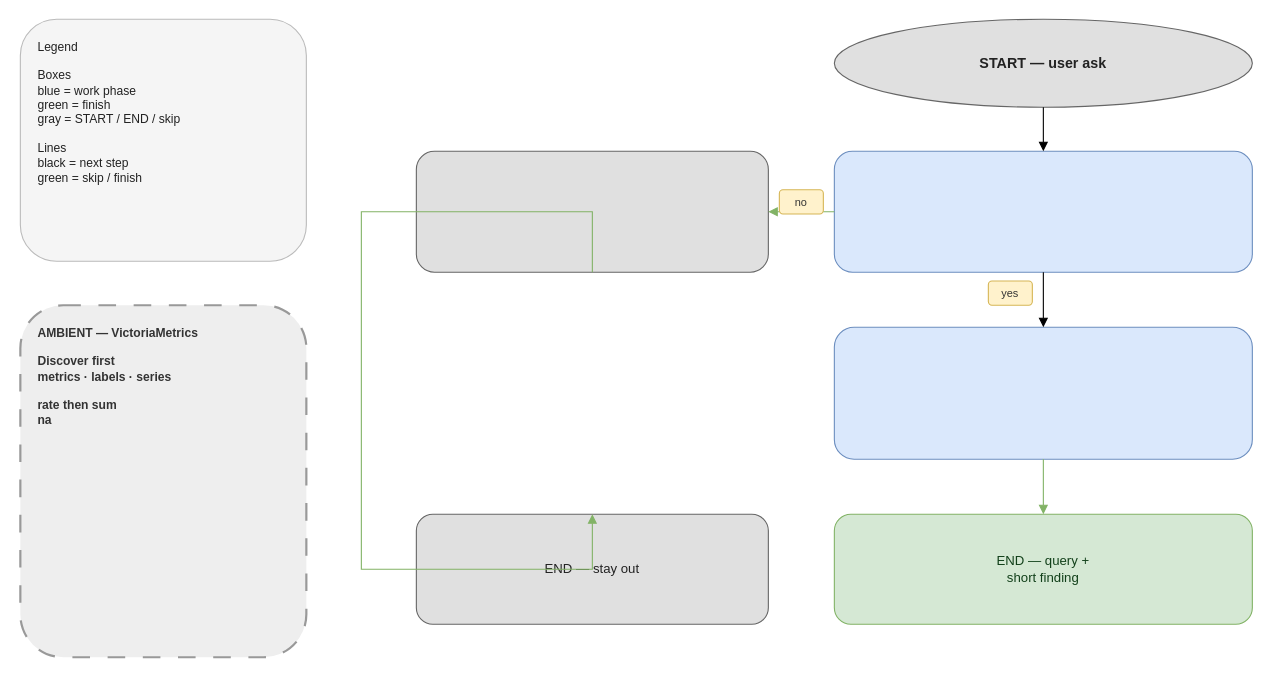
The diagram is 1272 pixels wide and 678 high, and some of its shapes have lost their labels. Each missing label, with the box of its shape:
discover → query instant/range via MCP; bound cardinality: (833, 326, 1252, 459)
gate · VictoriaMetrics? MetricsQL / VM / vmalert ask: (833, 150, 1252, 272)
skip — no VM ordinary coding: (415, 150, 768, 272)
